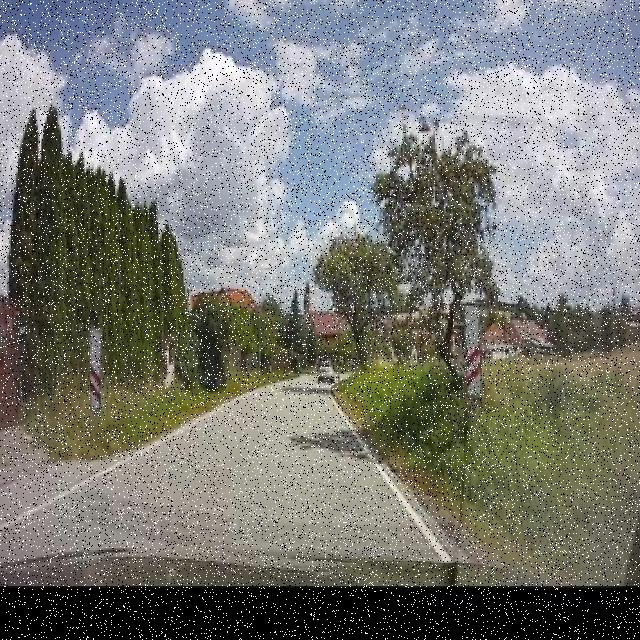clear-road: (109, 386, 412, 525)
